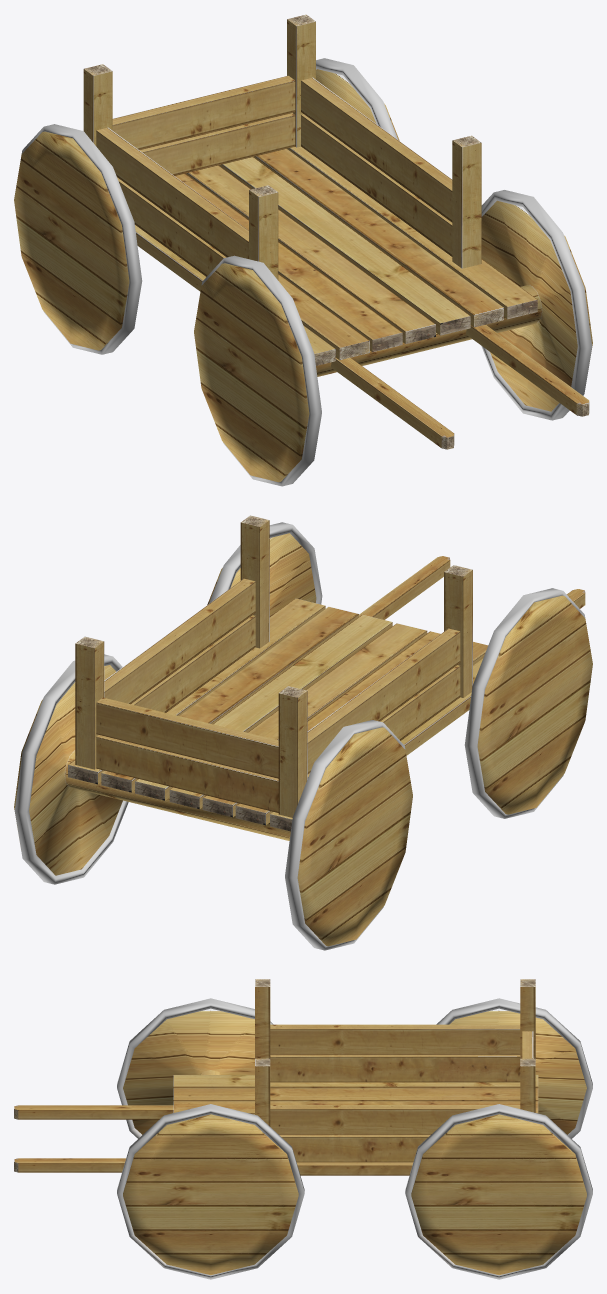
The model's file is Cart2.fbx.
3 renders of one model, top to bottom at view 1: azimuth 30°, elevation 25°; view 2: azimuth 150°, elevation 25°; view 3: azimuth 270°, elevation 25°, orthographic. The views are drawn at different scales.
Visible parts, largest first — view 1: Cube.006; view 2: Cube.006; view 3: Cube.006.
Part boxes in pixels (box(x1,y1,x2,y2)): Cube.006: box(14, 14, 592, 486); Cube.006: box(14, 515, 592, 950); Cube.006: box(14, 979, 592, 1279).
Size of the model in its own units: 402 by 339 by 873.
